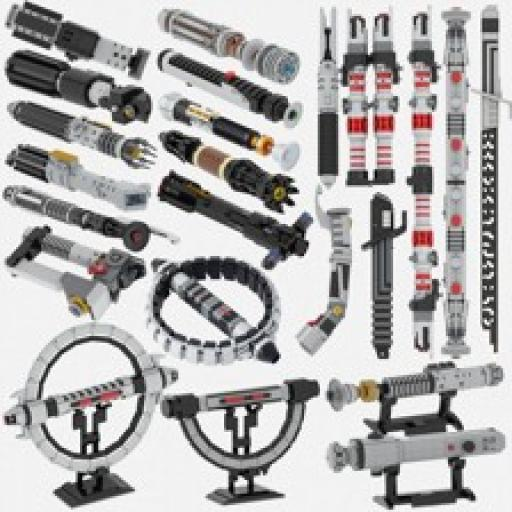lightsaber: (6, 222, 154, 320), (156, 174, 305, 264), (154, 259, 284, 361), (406, 9, 438, 356), (157, 8, 299, 84), (6, 186, 169, 252), (4, 365, 174, 428), (157, 50, 296, 126), (444, 6, 474, 356), (6, 51, 148, 123), (7, 4, 147, 76), (162, 132, 294, 205), (8, 102, 155, 167), (6, 148, 155, 211), (327, 361, 505, 413), (333, 425, 509, 476), (301, 202, 355, 358), (160, 96, 286, 158), (481, 8, 502, 354), (365, 193, 406, 363), (161, 378, 320, 417), (369, 9, 400, 190), (342, 10, 371, 189), (317, 5, 340, 191)
